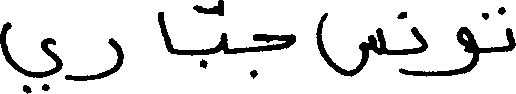ا: (155, 10, 171, 54)
ب: (199, 28, 228, 67)
ت: (481, 5, 514, 52)
ج: (252, 32, 294, 79)
ر: (66, 36, 124, 82)
س: (316, 10, 385, 77)
ن: (397, 11, 427, 56)
و: (429, 25, 477, 75)
ي: (0, 20, 63, 93)
